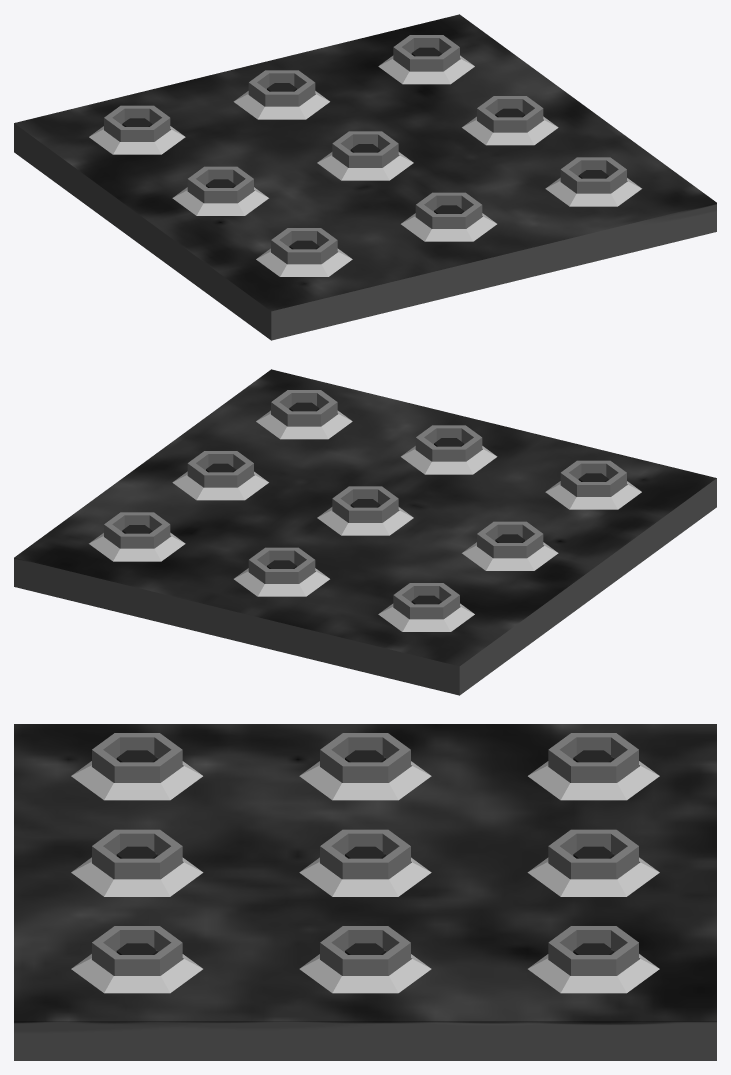
Rendered from FireTile.fbx.
3 views of the same model, one above another, from view 1: azimuth 30°, elevation 25°; view 2: azimuth 150°, elevation 25°; view 3: azimuth 270°, elevation 25° (orthographic). The views are drawn at different scales.
Parts seen in each view (by area): view 1: Cube; view 2: Cube; view 3: Cube.
Boxes of the visible parts, x1,y1,x2,y2 form: Cube: (14, 14, 716, 340); Cube: (14, 369, 716, 695); Cube: (14, 724, 716, 1060).
Bounding box in the file's own units: 616 × 64.06 × 616.
Materials: 1 (1 with a texture image).
